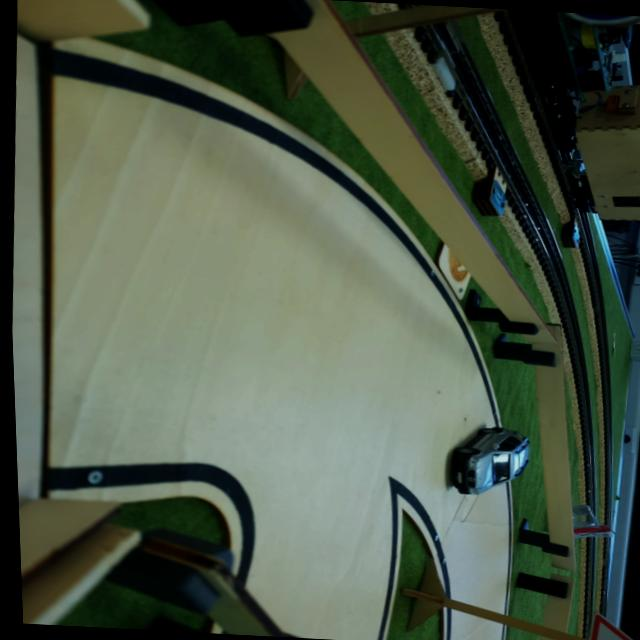obstacle_voiture: (432, 415, 547, 500)
panneau_intersection: (567, 611, 640, 640)
